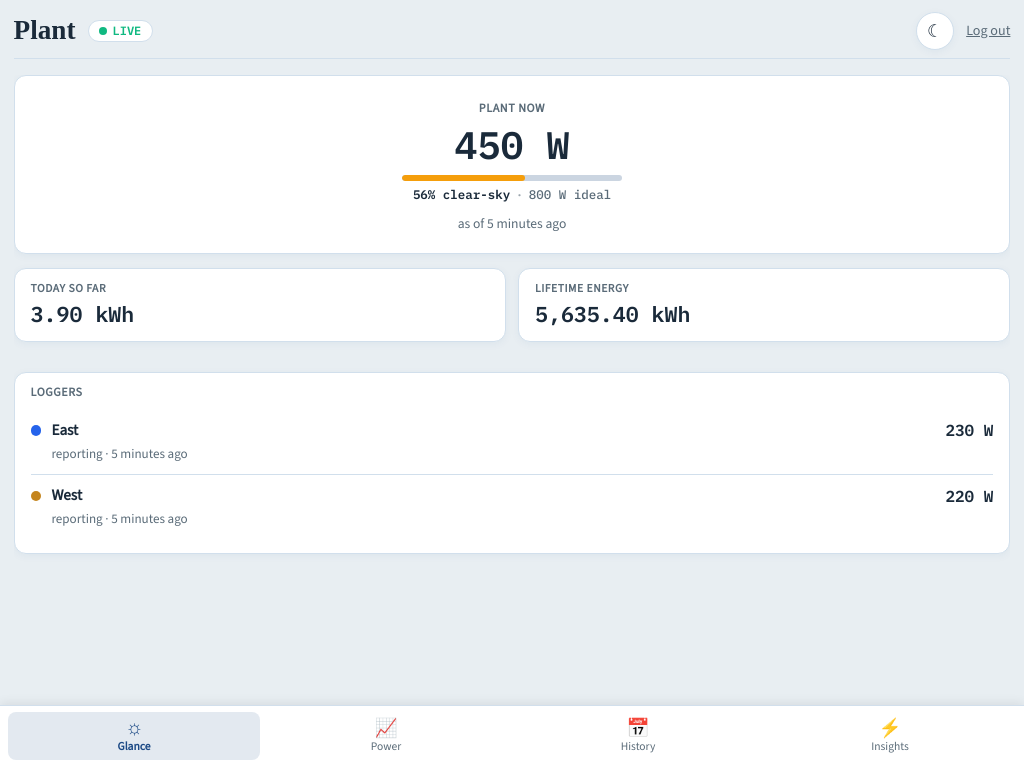
MobilePlantView (Azulejo Moderno 4-Tab Dock) › switches to Power tab and renders diurnal power curve controls
The image size is (1024, 768).
Step 1. Click the tab "📈 Power" → (386, 736), box [260,712,512,760]
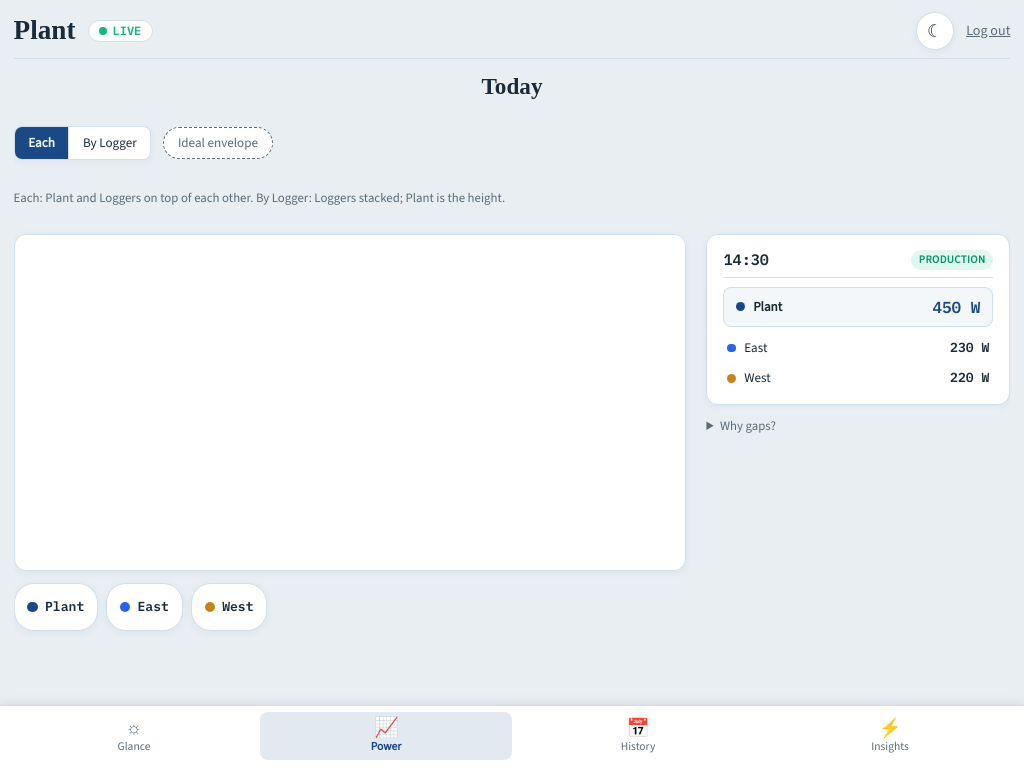
Result: the button "Each" is shown at [15,127,69,159]
Result: the button "By Logger" is shown at [69,127,150,159]
Result: the button "Ideal envelope" is shown at [163,127,273,159]
